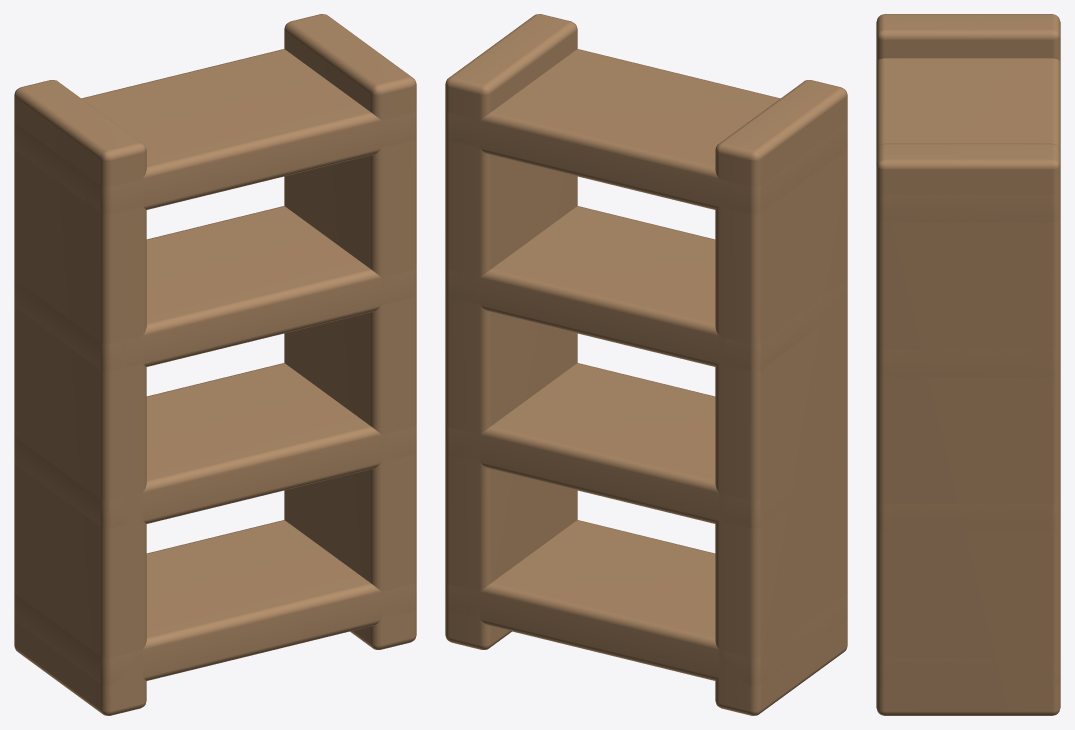
Rendered from atelier-shower-shelf.glb.
The picture shows the model from 3 angles, left to right: view 1: azimuth 30°, elevation 25°; view 2: azimuth 150°, elevation 25°; view 3: azimuth 270°, elevation 25°; orthographic projection.
Visible parts, largest first — view 1: legs.167; view 2: legs.167; view 3: legs.167.
Part boxes in pixels (bbox=[...]): legs.167: bbox=[14, 14, 416, 715]; legs.167: bbox=[445, 14, 847, 715]; legs.167: bbox=[876, 14, 1060, 715].
Size of the model in its own units: 0.35 by 0.6 by 0.18.
